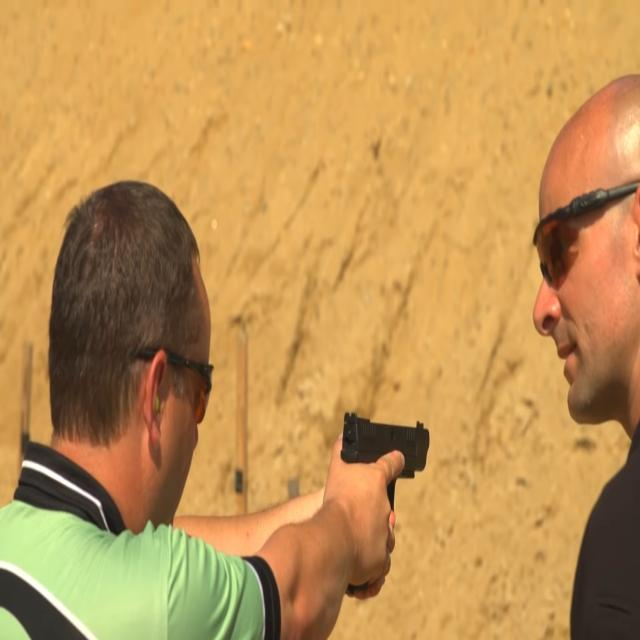Gun_Holder: (310, 376, 438, 598)
Person: (17, 184, 391, 640)
